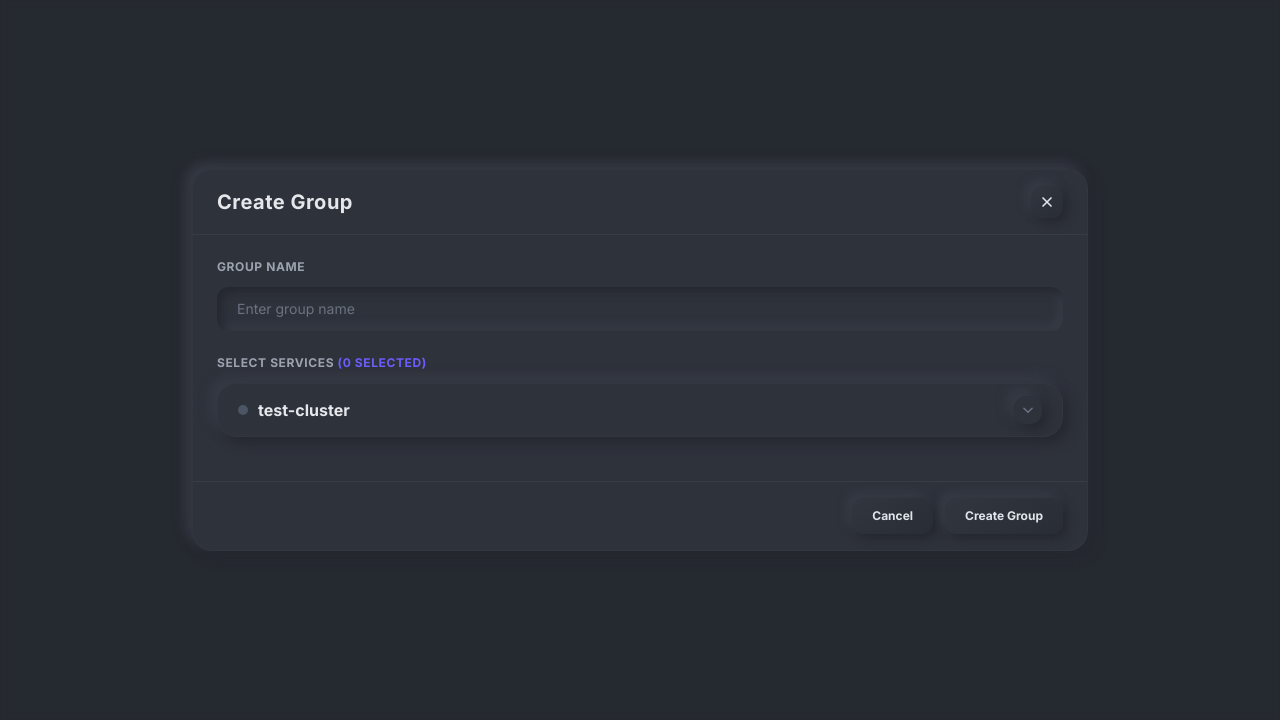
GroupForm › should not pre-select services from selectedServices when creating a new group
The image size is (1280, 720).
Expected: the text "(0 selected)" is shown, x1=338 y1=355 x2=427 y2=370
# Expand cluster to see the services
Click the button "test-cluster": (304, 410) x1=218 y1=384 x2=1062 y2=436
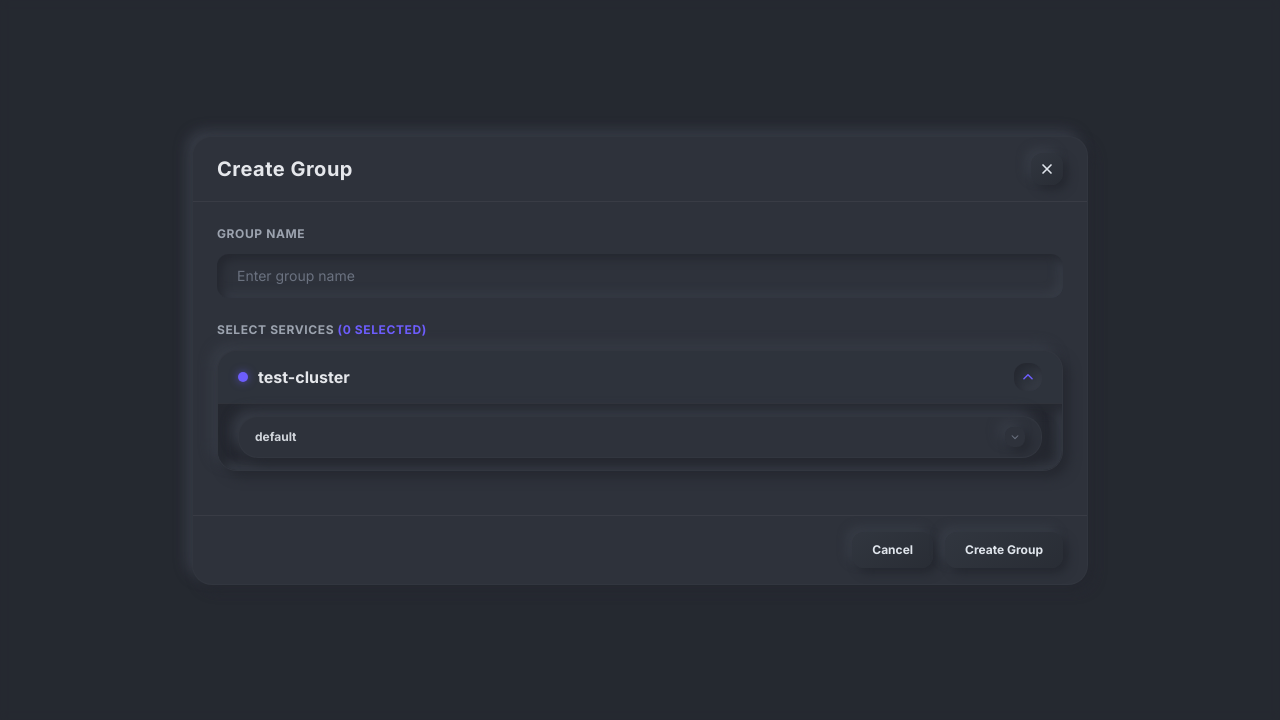
Click the button "default": (276, 436) x1=239 y1=416 x2=1041 y2=456
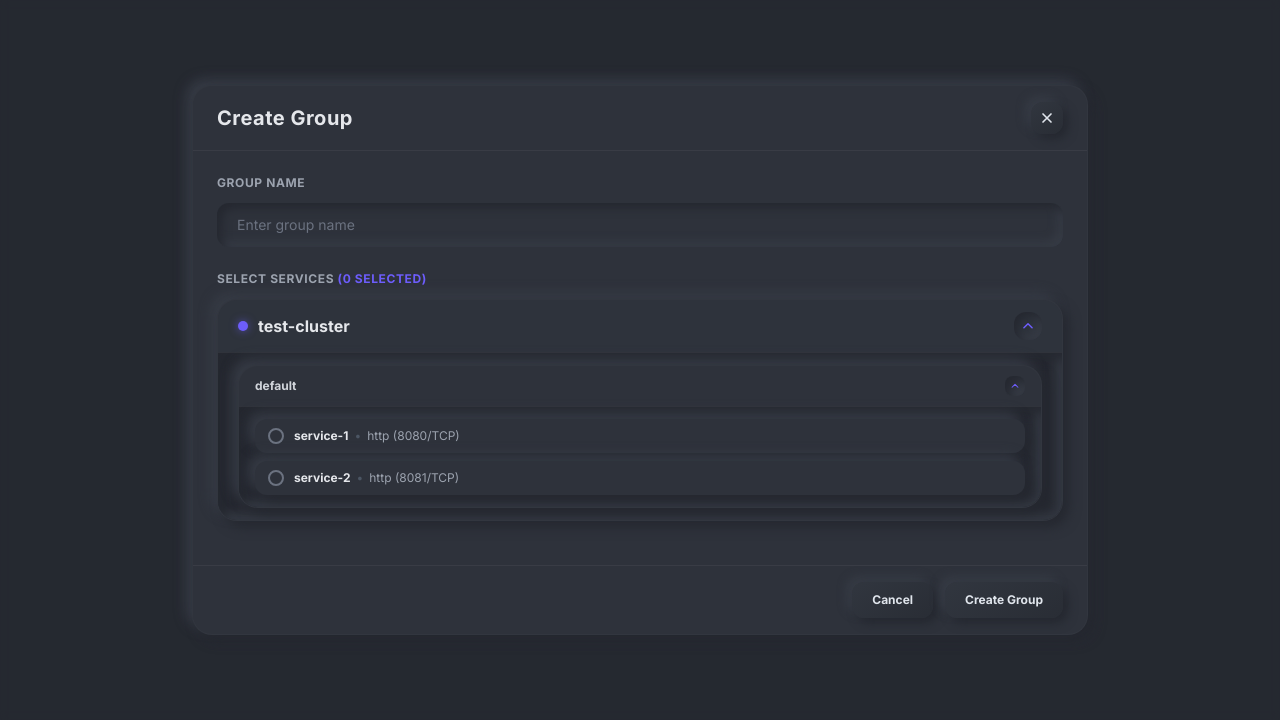
Expected: the checkbox labelled "service-1•http (8080/TCP)" is not checked, x1=255 y1=419 x2=1025 y2=453
Expected: the checkbox labelled "service-2•http (8081/TCP)" is not checked, x1=255 y1=461 x2=1025 y2=495
